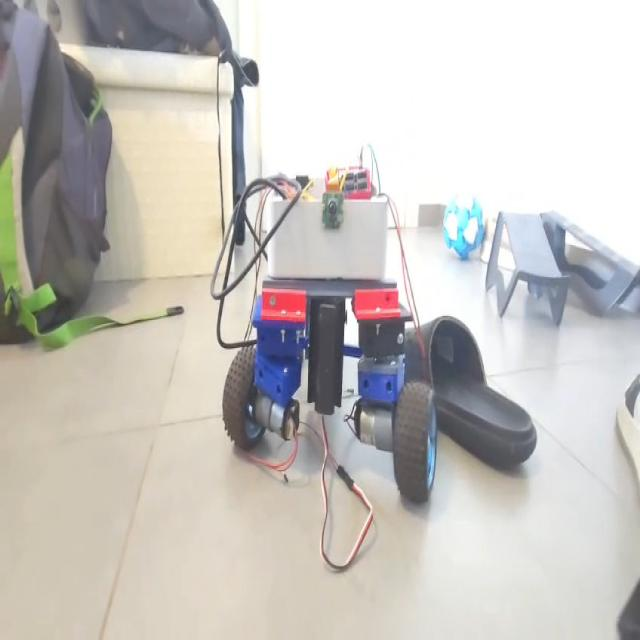Robot: (221, 137, 440, 515)
